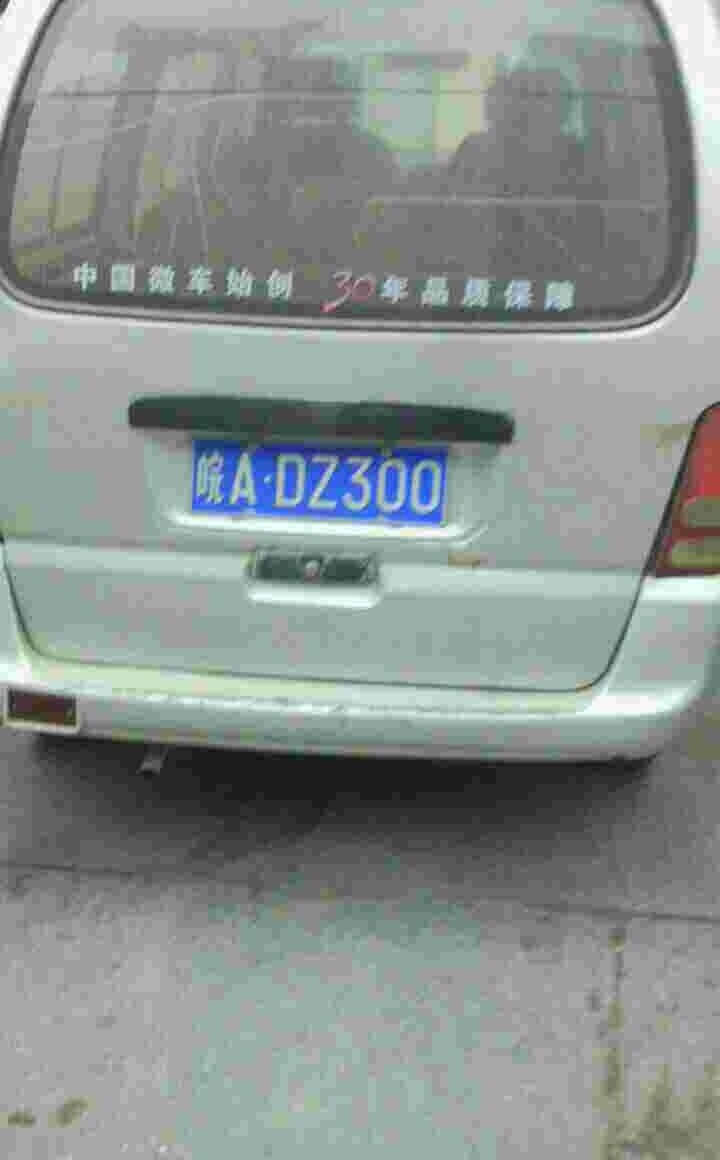plate: (187, 433, 455, 530)
